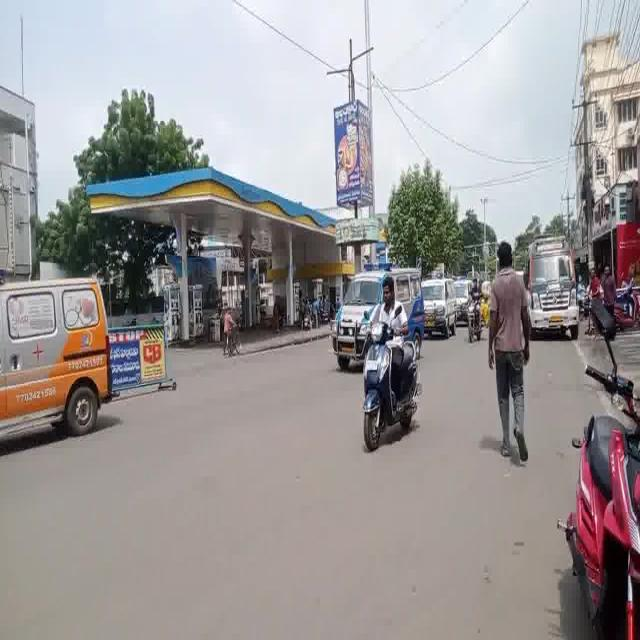ambulance: (1, 270, 117, 454), (331, 263, 428, 363), (525, 233, 583, 344), (432, 273, 455, 333), (458, 272, 467, 334)
